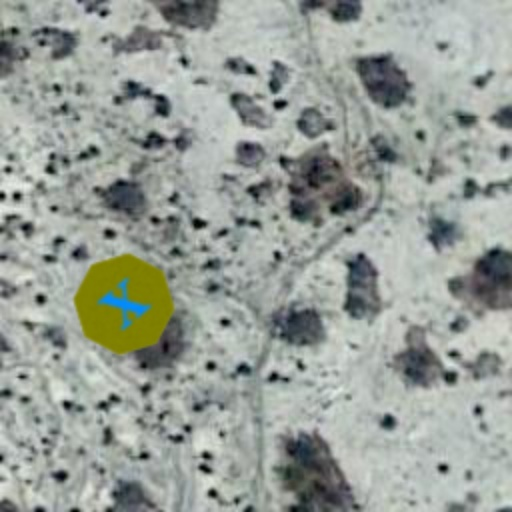octagon: (50, 230, 198, 378)
